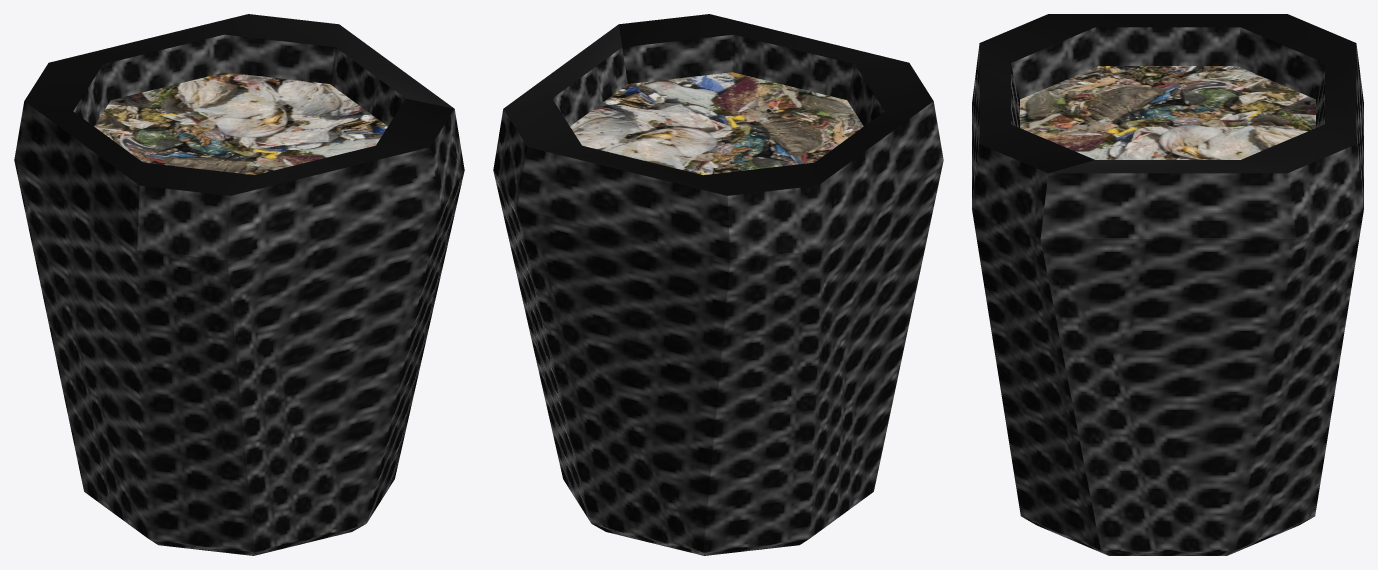
File: TrashCan.fbx
3 views of the same model, side by side, from view 1: azimuth 30°, elevation 25°; view 2: azimuth 150°, elevation 25°; view 3: azimuth 270°, elevation 25° (orthographic). The views are drawn at different scales.
Visible parts, largest first — view 1: trashcan; view 2: trashcan; view 3: trashcan.
Boxes of the visible parts, left/top/right/bottom form: trashcan: left=14, top=14, right=464, bottom=555; trashcan: left=493, top=14, right=943, bottom=555; trashcan: left=972, top=14, right=1363, bottom=555.
Size of the model in its own units: 0.8704 by 0.8704 by 0.9974.
